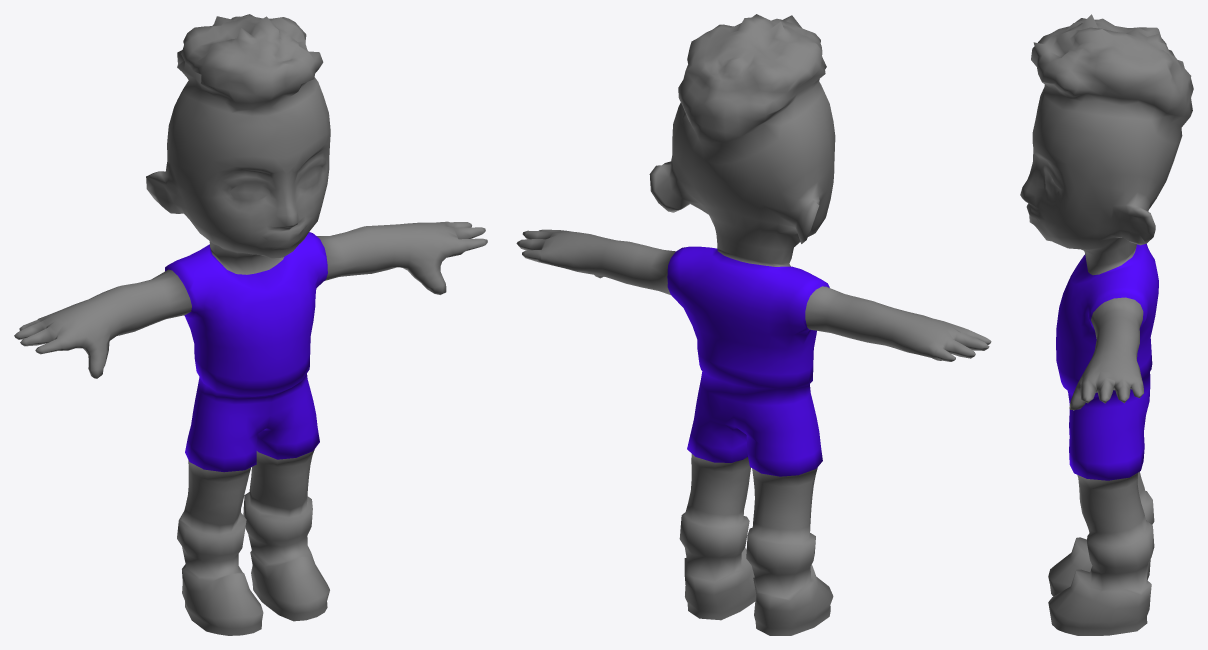
Rendered from Joshua_Low.fbx.
3 renders of one model, left to right at view 1: azimuth 30°, elevation 25°; view 2: azimuth 150°, elevation 25°; view 3: azimuth 270°, elevation 25°, orthographic.
Visible parts, largest first — view 1: joshua_low; view 2: joshua_low; view 3: joshua_low.
Part boxes in pixels (bbox=[...]): joshua_low: bbox=[14, 14, 487, 635]; joshua_low: bbox=[516, 14, 991, 635]; joshua_low: bbox=[1020, 14, 1193, 635].
Bounding box in the file's own units: 79.05 × 95.78 × 25.8.
